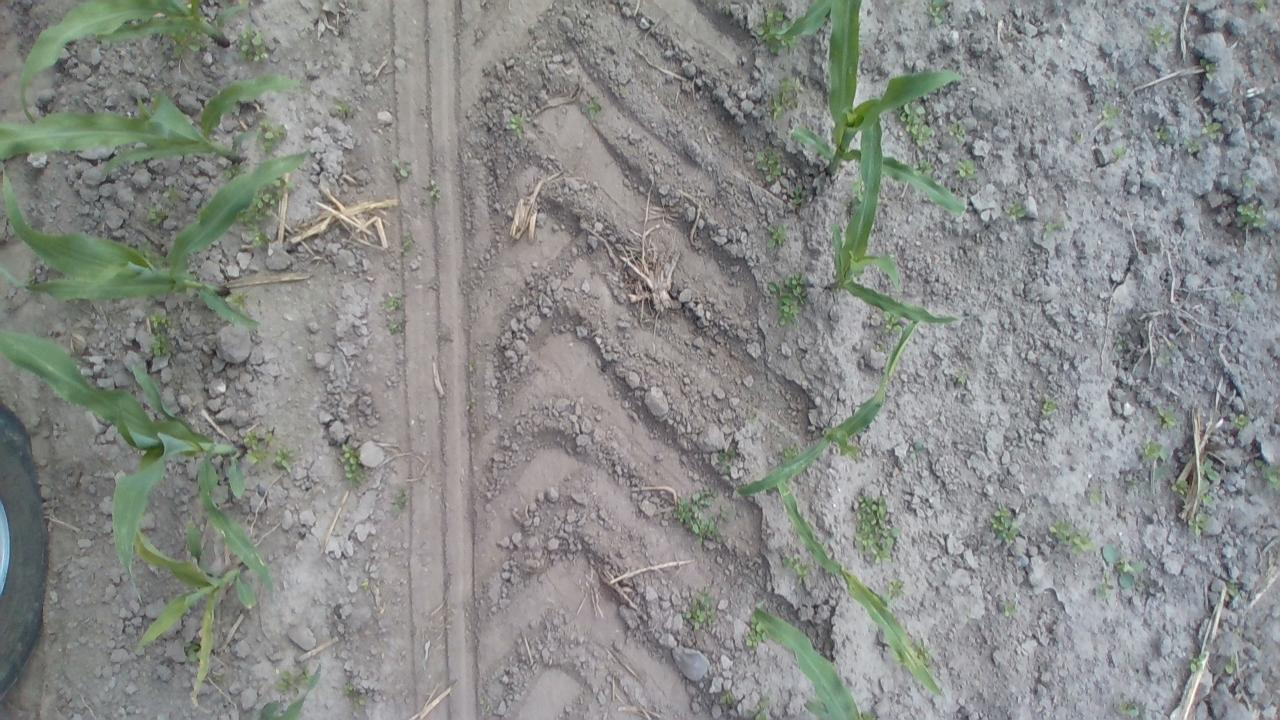Maize: (0, 327, 279, 600), (0, 153, 309, 336), (792, 0, 966, 219), (780, 481, 949, 703), (742, 318, 919, 498), (0, 69, 300, 174), (827, 120, 967, 327), (16, 0, 253, 120), (130, 518, 258, 702), (753, 603, 860, 720), (253, 663, 319, 720), (766, 0, 830, 41)
Weeds: (850, 493, 899, 566), (234, 178, 293, 230), (675, 487, 724, 546), (1097, 544, 1147, 600), (752, 8, 802, 56), (1047, 514, 1098, 556), (768, 272, 806, 327), (896, 101, 936, 146), (770, 78, 804, 124), (682, 589, 717, 629), (990, 504, 1023, 546), (337, 441, 368, 483), (242, 426, 274, 466), (147, 312, 174, 359), (236, 27, 270, 64), (274, 667, 318, 695), (258, 117, 288, 155), (166, 26, 202, 57), (909, 638, 938, 674), (1200, 458, 1222, 505), (1234, 202, 1268, 232), (756, 147, 784, 183), (742, 615, 770, 649), (1255, 458, 1280, 496), (782, 554, 808, 586), (1146, 23, 1176, 50), (1142, 438, 1170, 464), (1154, 404, 1180, 430), (272, 447, 298, 472), (504, 113, 528, 140), (766, 224, 789, 250), (221, 290, 250, 310), (846, 178, 864, 209), (1186, 511, 1208, 536), (144, 204, 168, 226), (954, 158, 976, 182), (882, 310, 902, 336), (716, 448, 736, 474), (1102, 105, 1122, 130), (927, 0, 946, 25), (1170, 478, 1190, 501), (388, 158, 411, 178), (911, 159, 934, 179), (248, 230, 273, 248), (1202, 120, 1223, 141), (949, 119, 966, 143), (582, 99, 602, 119), (754, 695, 770, 720), (1005, 200, 1023, 222), (1110, 144, 1128, 166), (222, 162, 246, 178), (1185, 652, 1204, 672), (182, 641, 200, 662), (781, 444, 799, 464), (790, 184, 806, 206), (888, 578, 904, 600), (382, 292, 400, 310), (1232, 413, 1250, 431), (1223, 652, 1238, 673), (1042, 219, 1064, 233), (1198, 58, 1215, 76), (1088, 488, 1104, 506), (1000, 598, 1016, 616), (429, 178, 442, 200), (720, 692, 740, 706), (1252, 0, 1272, 13), (1184, 139, 1202, 153), (1119, 703, 1138, 716), (162, 187, 178, 202), (1041, 399, 1057, 414), (952, 368, 966, 384), (388, 320, 404, 334), (334, 102, 352, 114), (1230, 290, 1244, 305), (1226, 582, 1240, 597), (1155, 127, 1170, 141), (858, 710, 876, 720), (343, 685, 355, 696), (878, 344, 886, 354), (1242, 176, 1249, 184)
